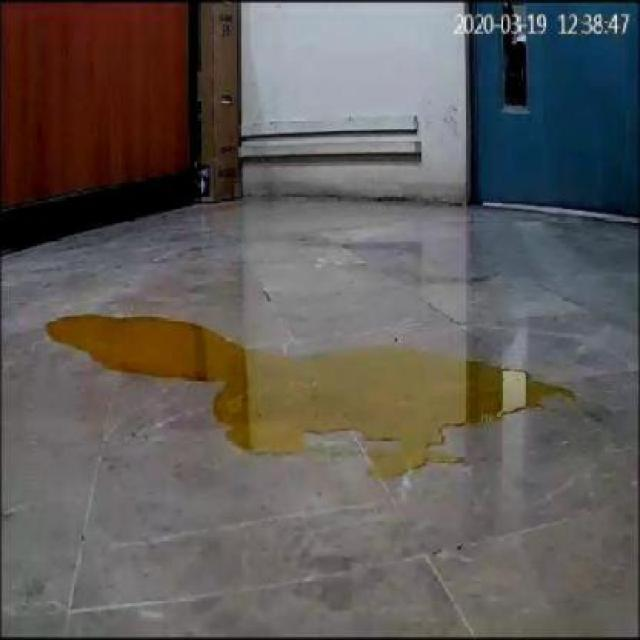spillage: (47, 315, 570, 477)
